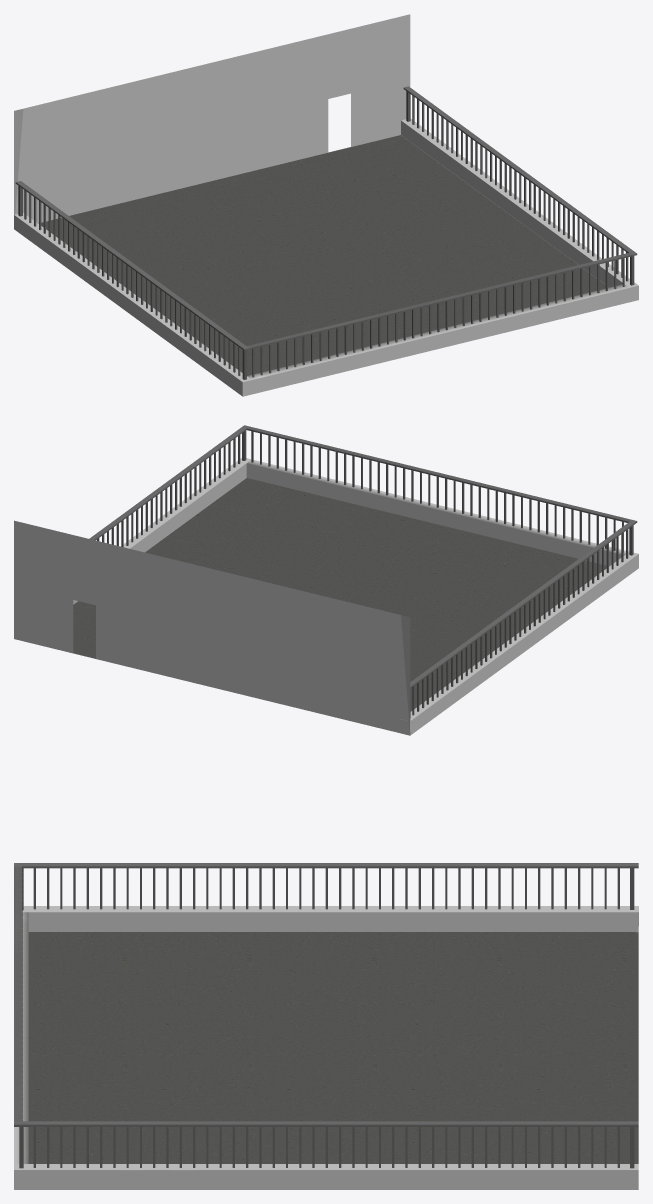
File: roofTop.obj
The picture shows the model from 3 angles, top to bottom: view 1: azimuth 30°, elevation 25°; view 2: azimuth 150°, elevation 25°; view 3: azimuth 270°, elevation 25°; orthographic projection. The views are drawn at different scales.
Visible parts, largest first — view 1: Cube.008; view 2: Cube.008; view 3: Cube.008.
Part boxes in pixels (<box>): Cube.008: <box>14,14,638,396</box>; Cube.008: <box>14,425,638,735</box>; Cube.008: <box>14,863,638,1189</box>.
Bounding box in the file's own units: 14 × 4 × 14.01.
Materials: 1 (1 with a texture image).
